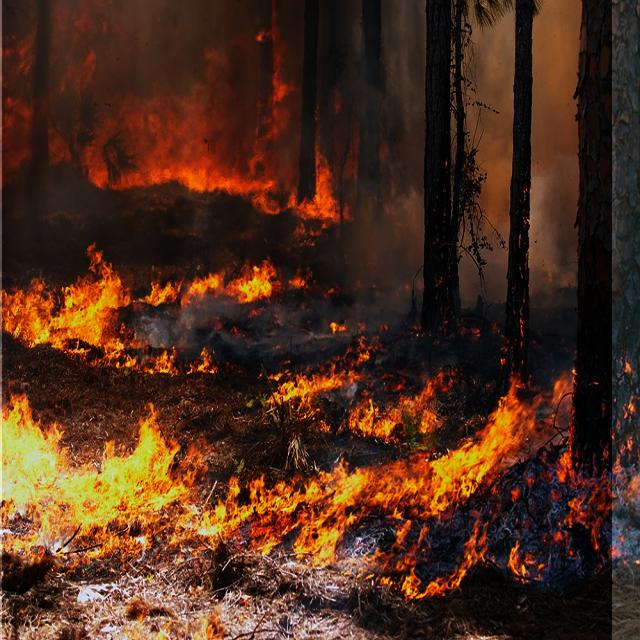Fire: (2, 0, 612, 640)
